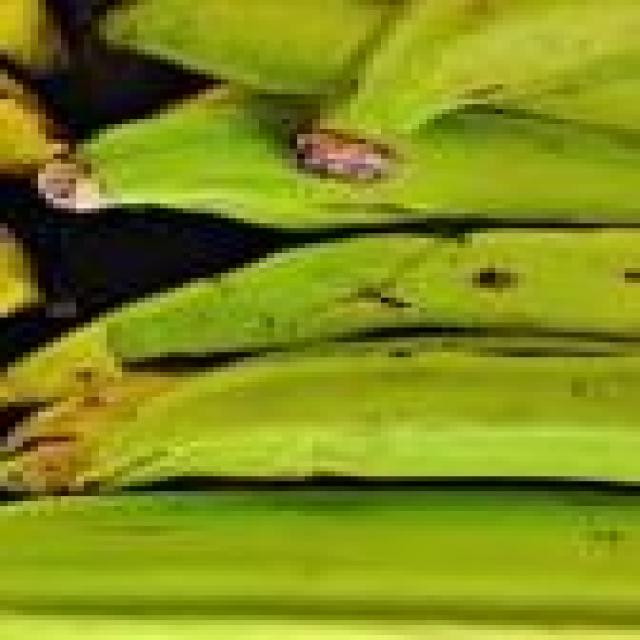banana: (0, 229, 639, 401), (0, 338, 639, 491), (0, 487, 639, 635), (39, 90, 639, 228), (107, 0, 639, 143), (107, 229, 639, 362), (0, 373, 182, 496), (0, 323, 121, 406), (511, 60, 639, 133), (0, 70, 68, 178), (0, 0, 68, 74), (0, 229, 45, 317)
